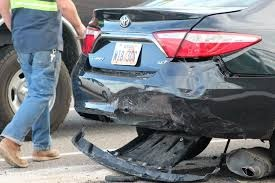Dent: (163, 61, 215, 101)
Scratch: (194, 111, 252, 140)
Smashed: (109, 87, 213, 179)
